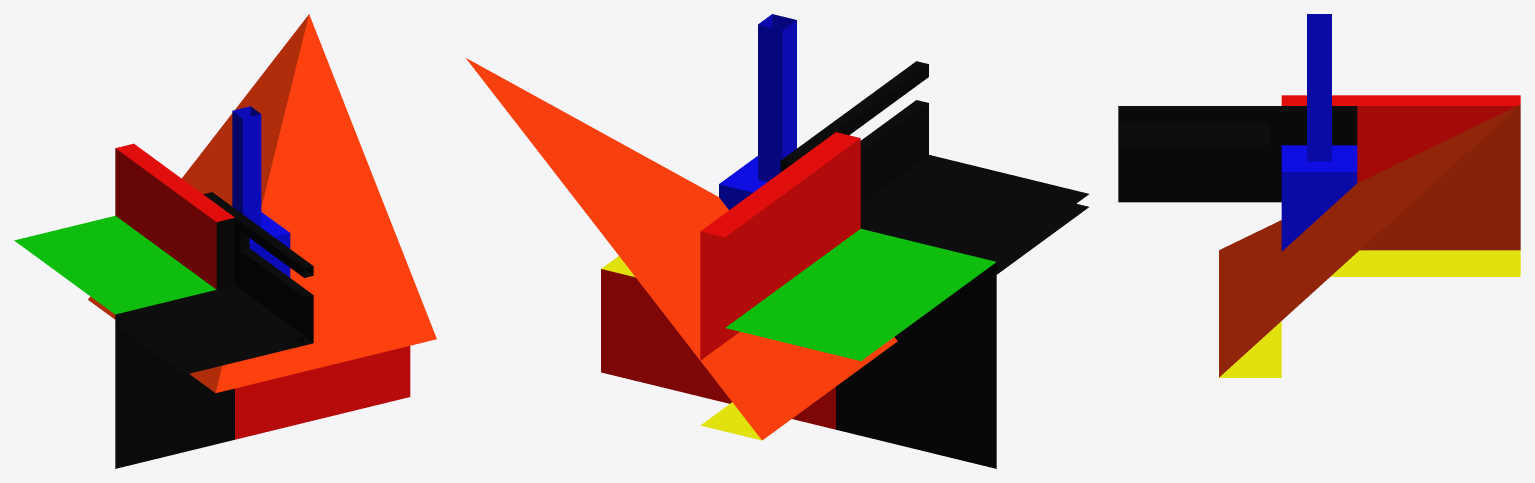
The model's file is None_S_E_E_E_W_P_E_E_BigStrut.fbx.
The picture shows the model from 3 angles, left to right: view 1: azimuth 30°, elevation 25°; view 2: azimuth 150°, elevation 25°; view 3: azimuth 270°, elevation 25°; orthographic projection. The views are drawn at different scales.
Visible parts, largest first — view 1: None_S_E_E_E_W_P_E_E_BigStrut; view 2: None_S_E_E_E_W_P_E_E_BigStrut; view 3: None_S_E_E_E_W_P_E_E_BigStrut.
Part boxes in pixels (box(x1,y1,x2,y2)): None_S_E_E_E_W_P_E_E_BigStrut: box(14, 14, 436, 468); None_S_E_E_E_W_P_E_E_BigStrut: box(466, 14, 1088, 468); None_S_E_E_E_W_P_E_E_BigStrut: box(1118, 14, 1520, 377).
Bounding box in the file's own units: 100 × 100 × 100.
